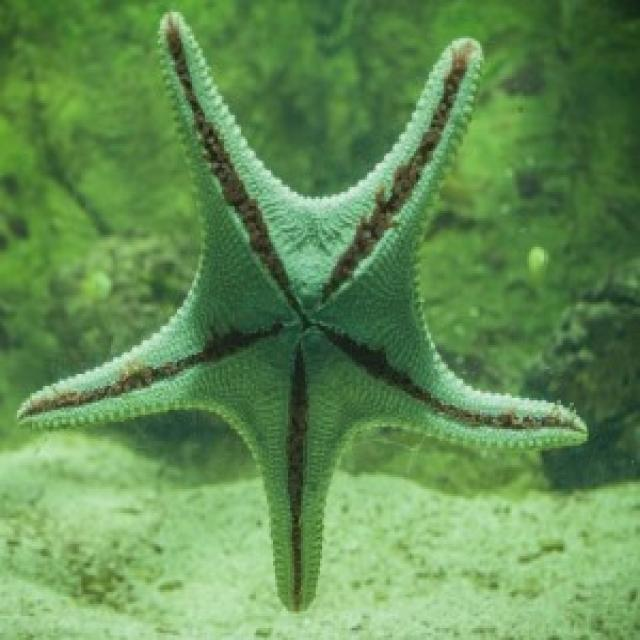Starfish: (12, 3, 593, 640)
